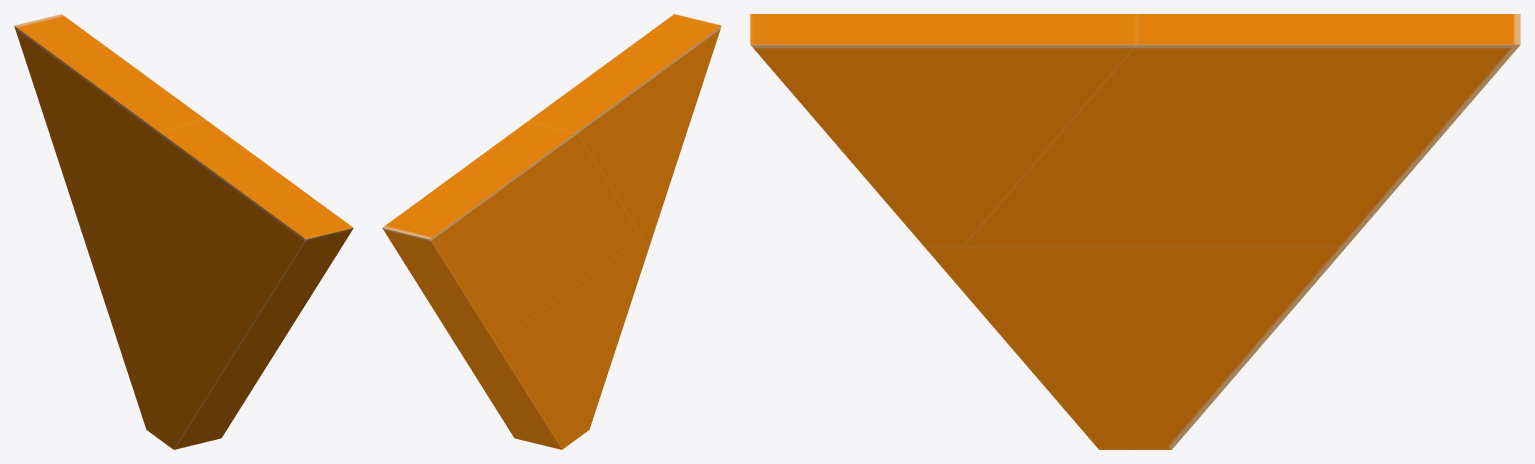
File: testCubeTextured.glb
The picture shows the model from 3 angles, left to right: view 1: azimuth 30°, elevation 25°; view 2: azimuth 150°, elevation 25°; view 3: azimuth 270°, elevation 25°; orthographic projection. The views are drawn at different scales.
Visible parts, largest first — view 1: Cube; view 2: Cube; view 3: Cube.
Boxes of the visible parts, x1,y1,x2,y2 form: Cube: (14, 14, 353, 449); Cube: (382, 14, 721, 449); Cube: (750, 14, 1520, 449).
Bounding box in the file's own units: 2 × 12.32 × 21.23.
1 material, 1 textured.
